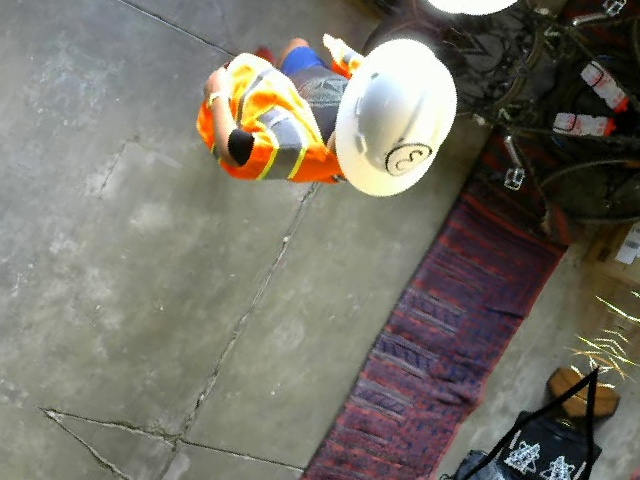three: (379, 130, 436, 186)
